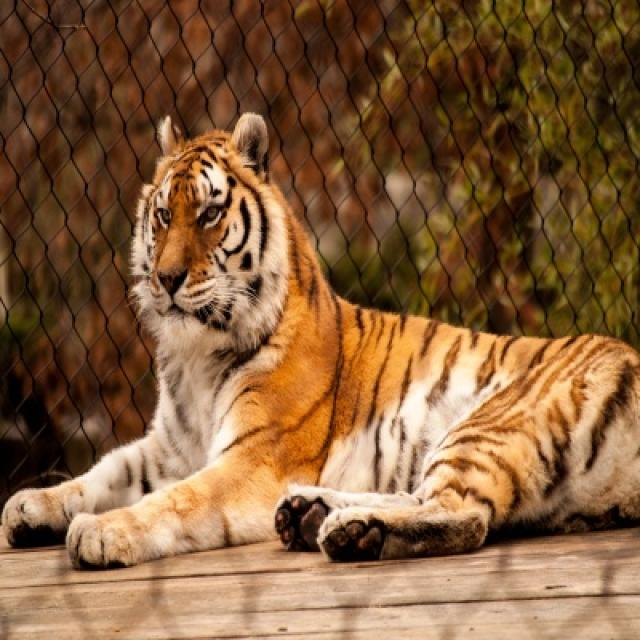Tiger: (2, 114, 638, 566)
